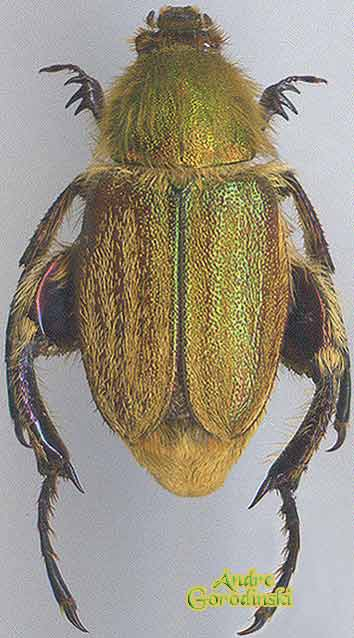Glaphyrus_superbus: (3, 3, 352, 638)
